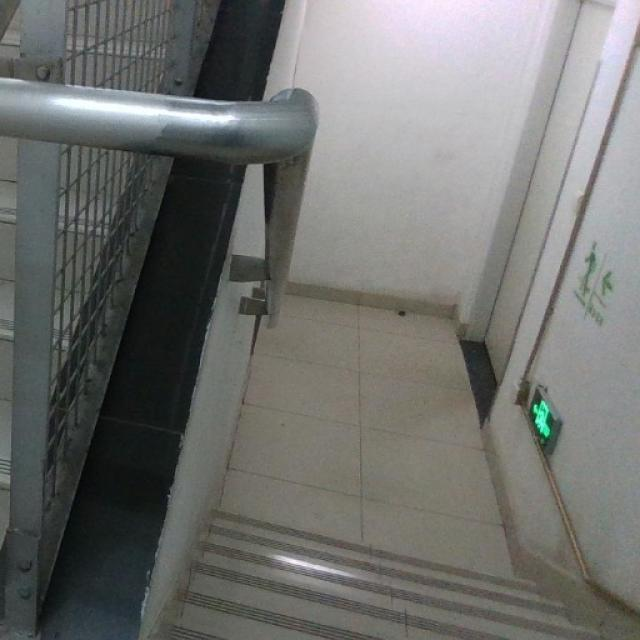stair: (190, 497, 586, 640)
